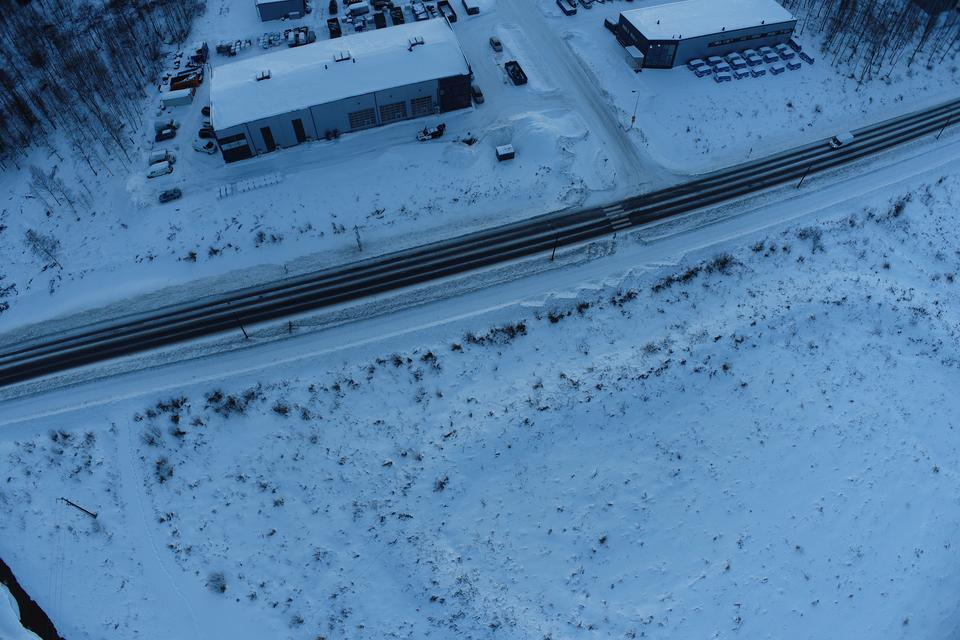intersection: (567, 97, 706, 271)
